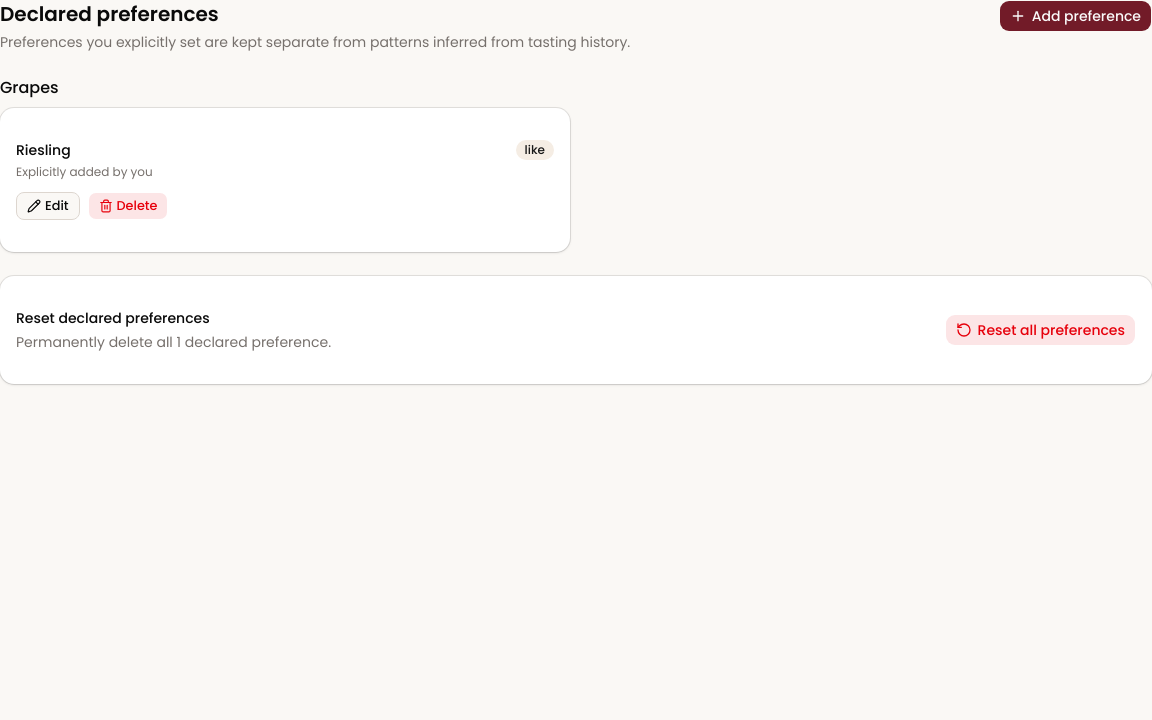
Test: TastePreferences › edits only mutable fields and refreshes an actionable conflict
Click the button with aria-label "Edit Riesling" at coordinates (48, 206), box [16, 192, 80, 220]
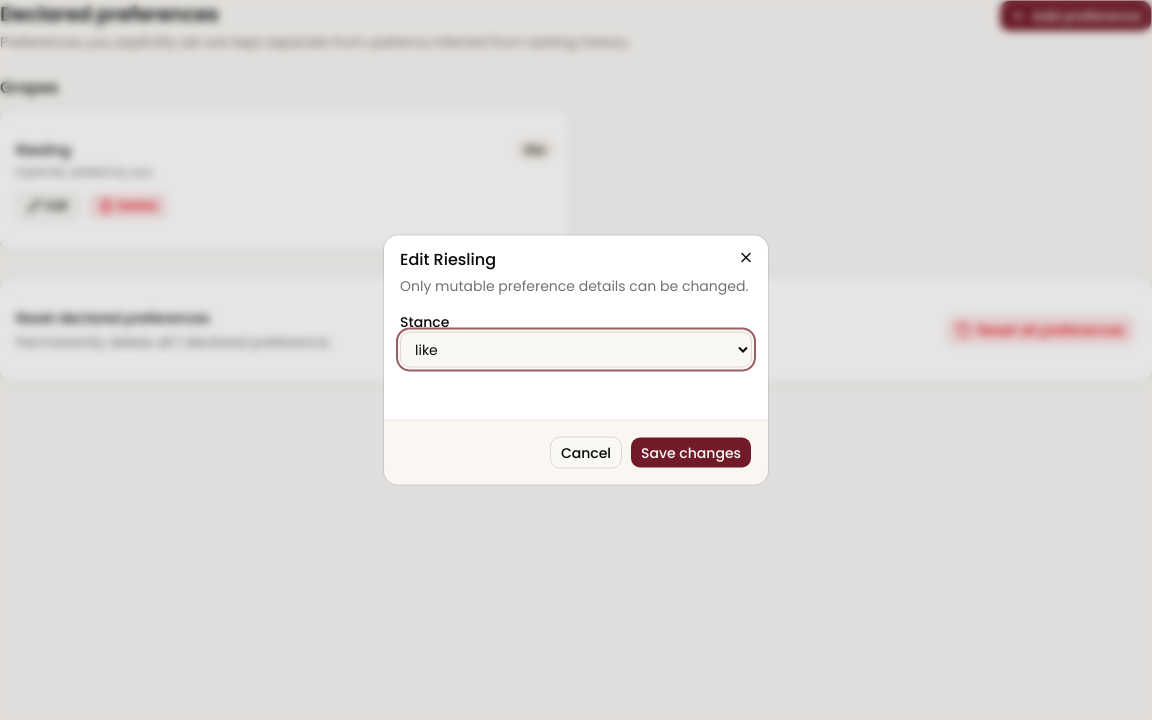
Select "avoid" in the dropdown labelled "Stance" at coordinates (576, 350), box [400, 332, 752, 368]
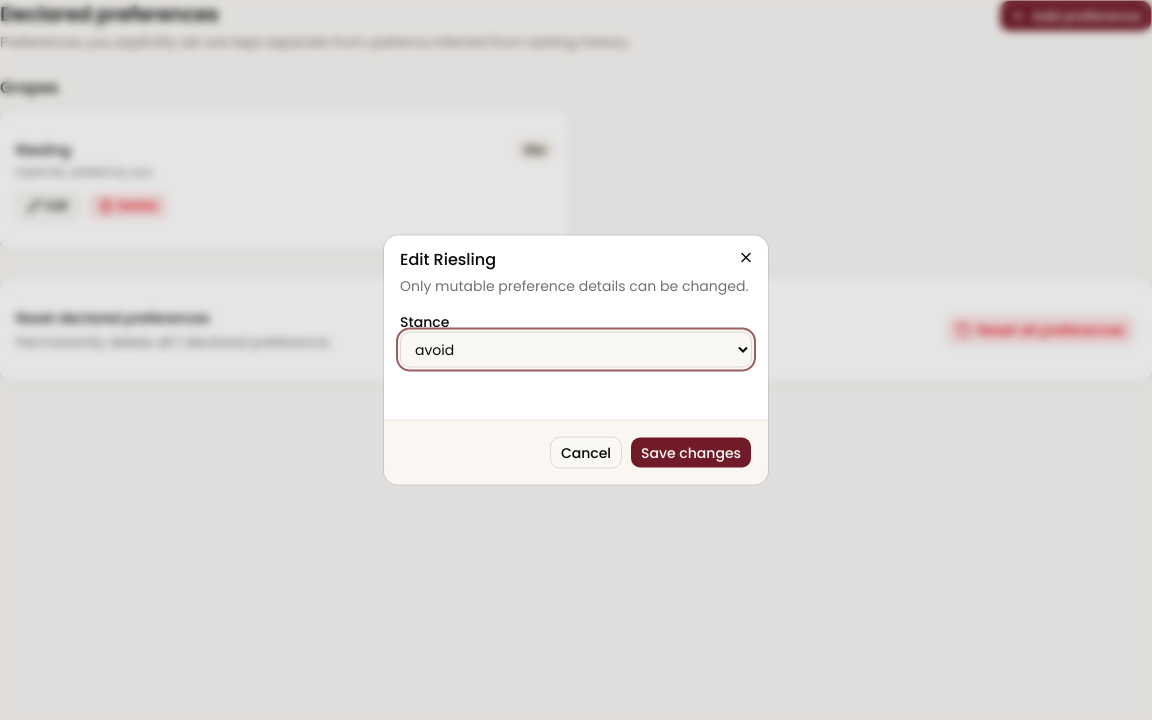
Click the button "Save changes" at coordinates (691, 452), box [630, 436, 752, 468]
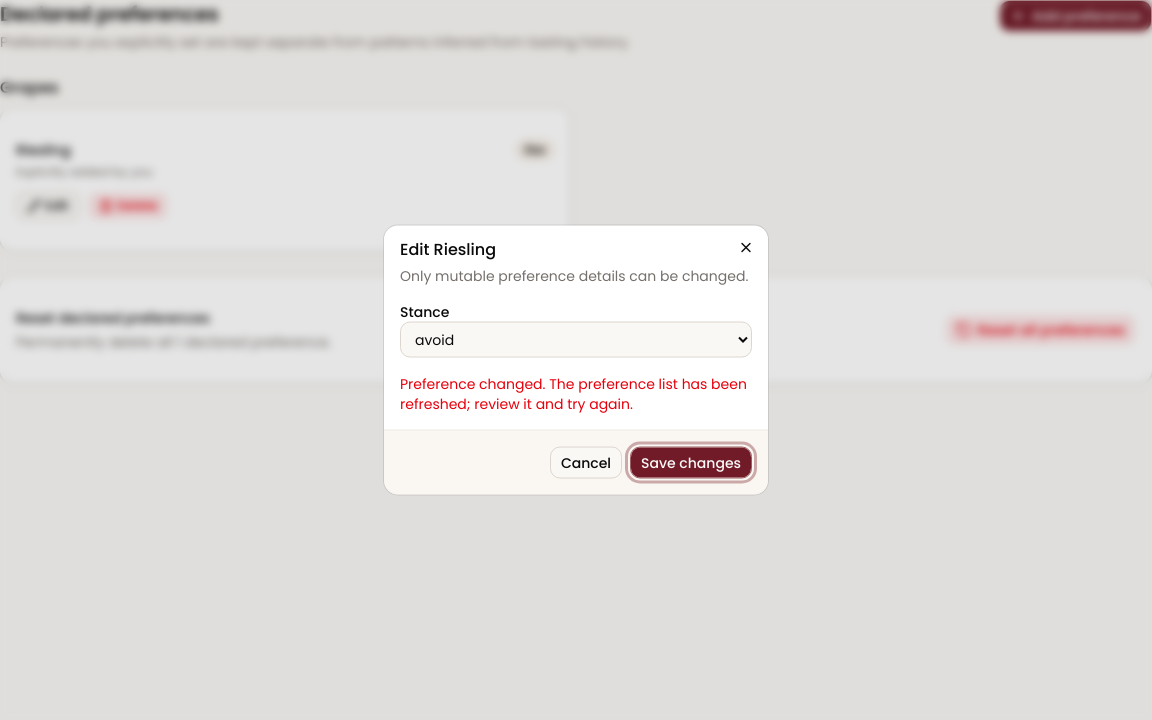
Result: the text "list has been refreshed" is shown at [400, 374, 747, 414]
